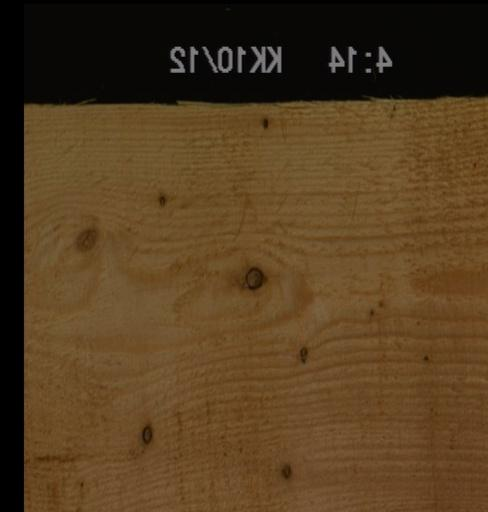dry_knot: (138, 420, 154, 444)
small_knot: (293, 340, 310, 367), (278, 457, 293, 480), (154, 190, 169, 207), (258, 112, 270, 130), (418, 348, 431, 364), (363, 303, 376, 318)
sound_knot: (72, 224, 99, 251)
